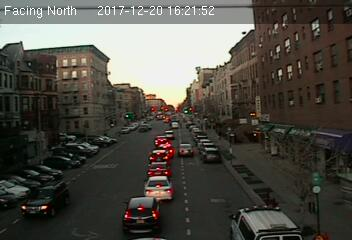car: (19, 181, 73, 217), (124, 195, 164, 232), (143, 176, 175, 201), (145, 162, 171, 180), (147, 148, 169, 162), (201, 147, 220, 162), (177, 143, 194, 156)
police: (229, 203, 305, 240)
